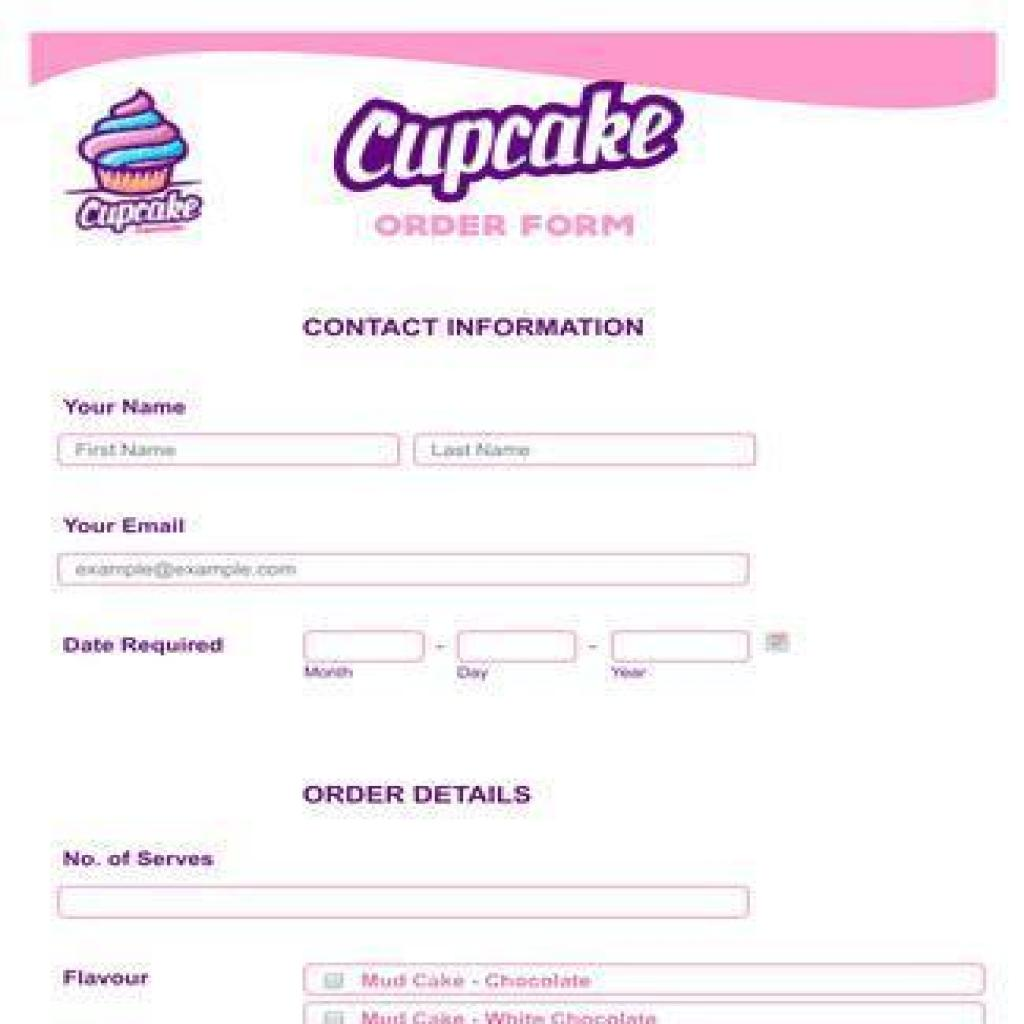checkbox: (321, 970, 350, 994), (318, 1008, 349, 1024)
input: (57, 886, 750, 922), (56, 550, 746, 586), (410, 430, 753, 469), (57, 432, 400, 468), (611, 627, 753, 661), (454, 627, 580, 663), (306, 630, 428, 663)
label: (63, 624, 230, 660), (356, 970, 599, 991), (63, 842, 217, 873), (356, 1011, 677, 1024), (50, 509, 198, 535), (63, 392, 192, 417), (57, 965, 154, 991), (605, 663, 652, 684), (303, 668, 359, 684), (454, 668, 494, 678)
